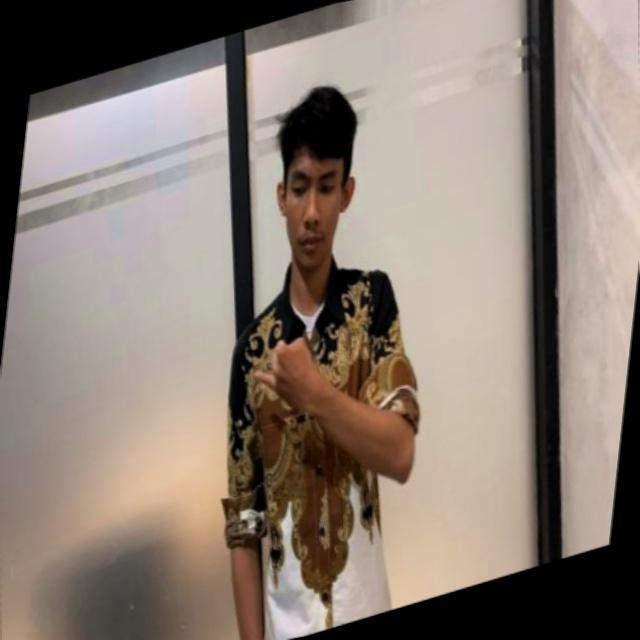J: (240, 332, 328, 424)
